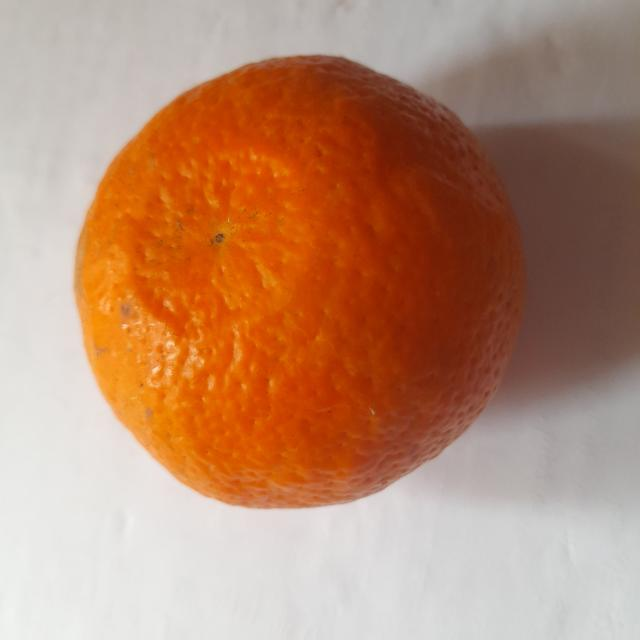Cam: (72, 51, 530, 514)
